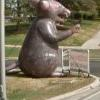Statue: (17, 2, 82, 78)
